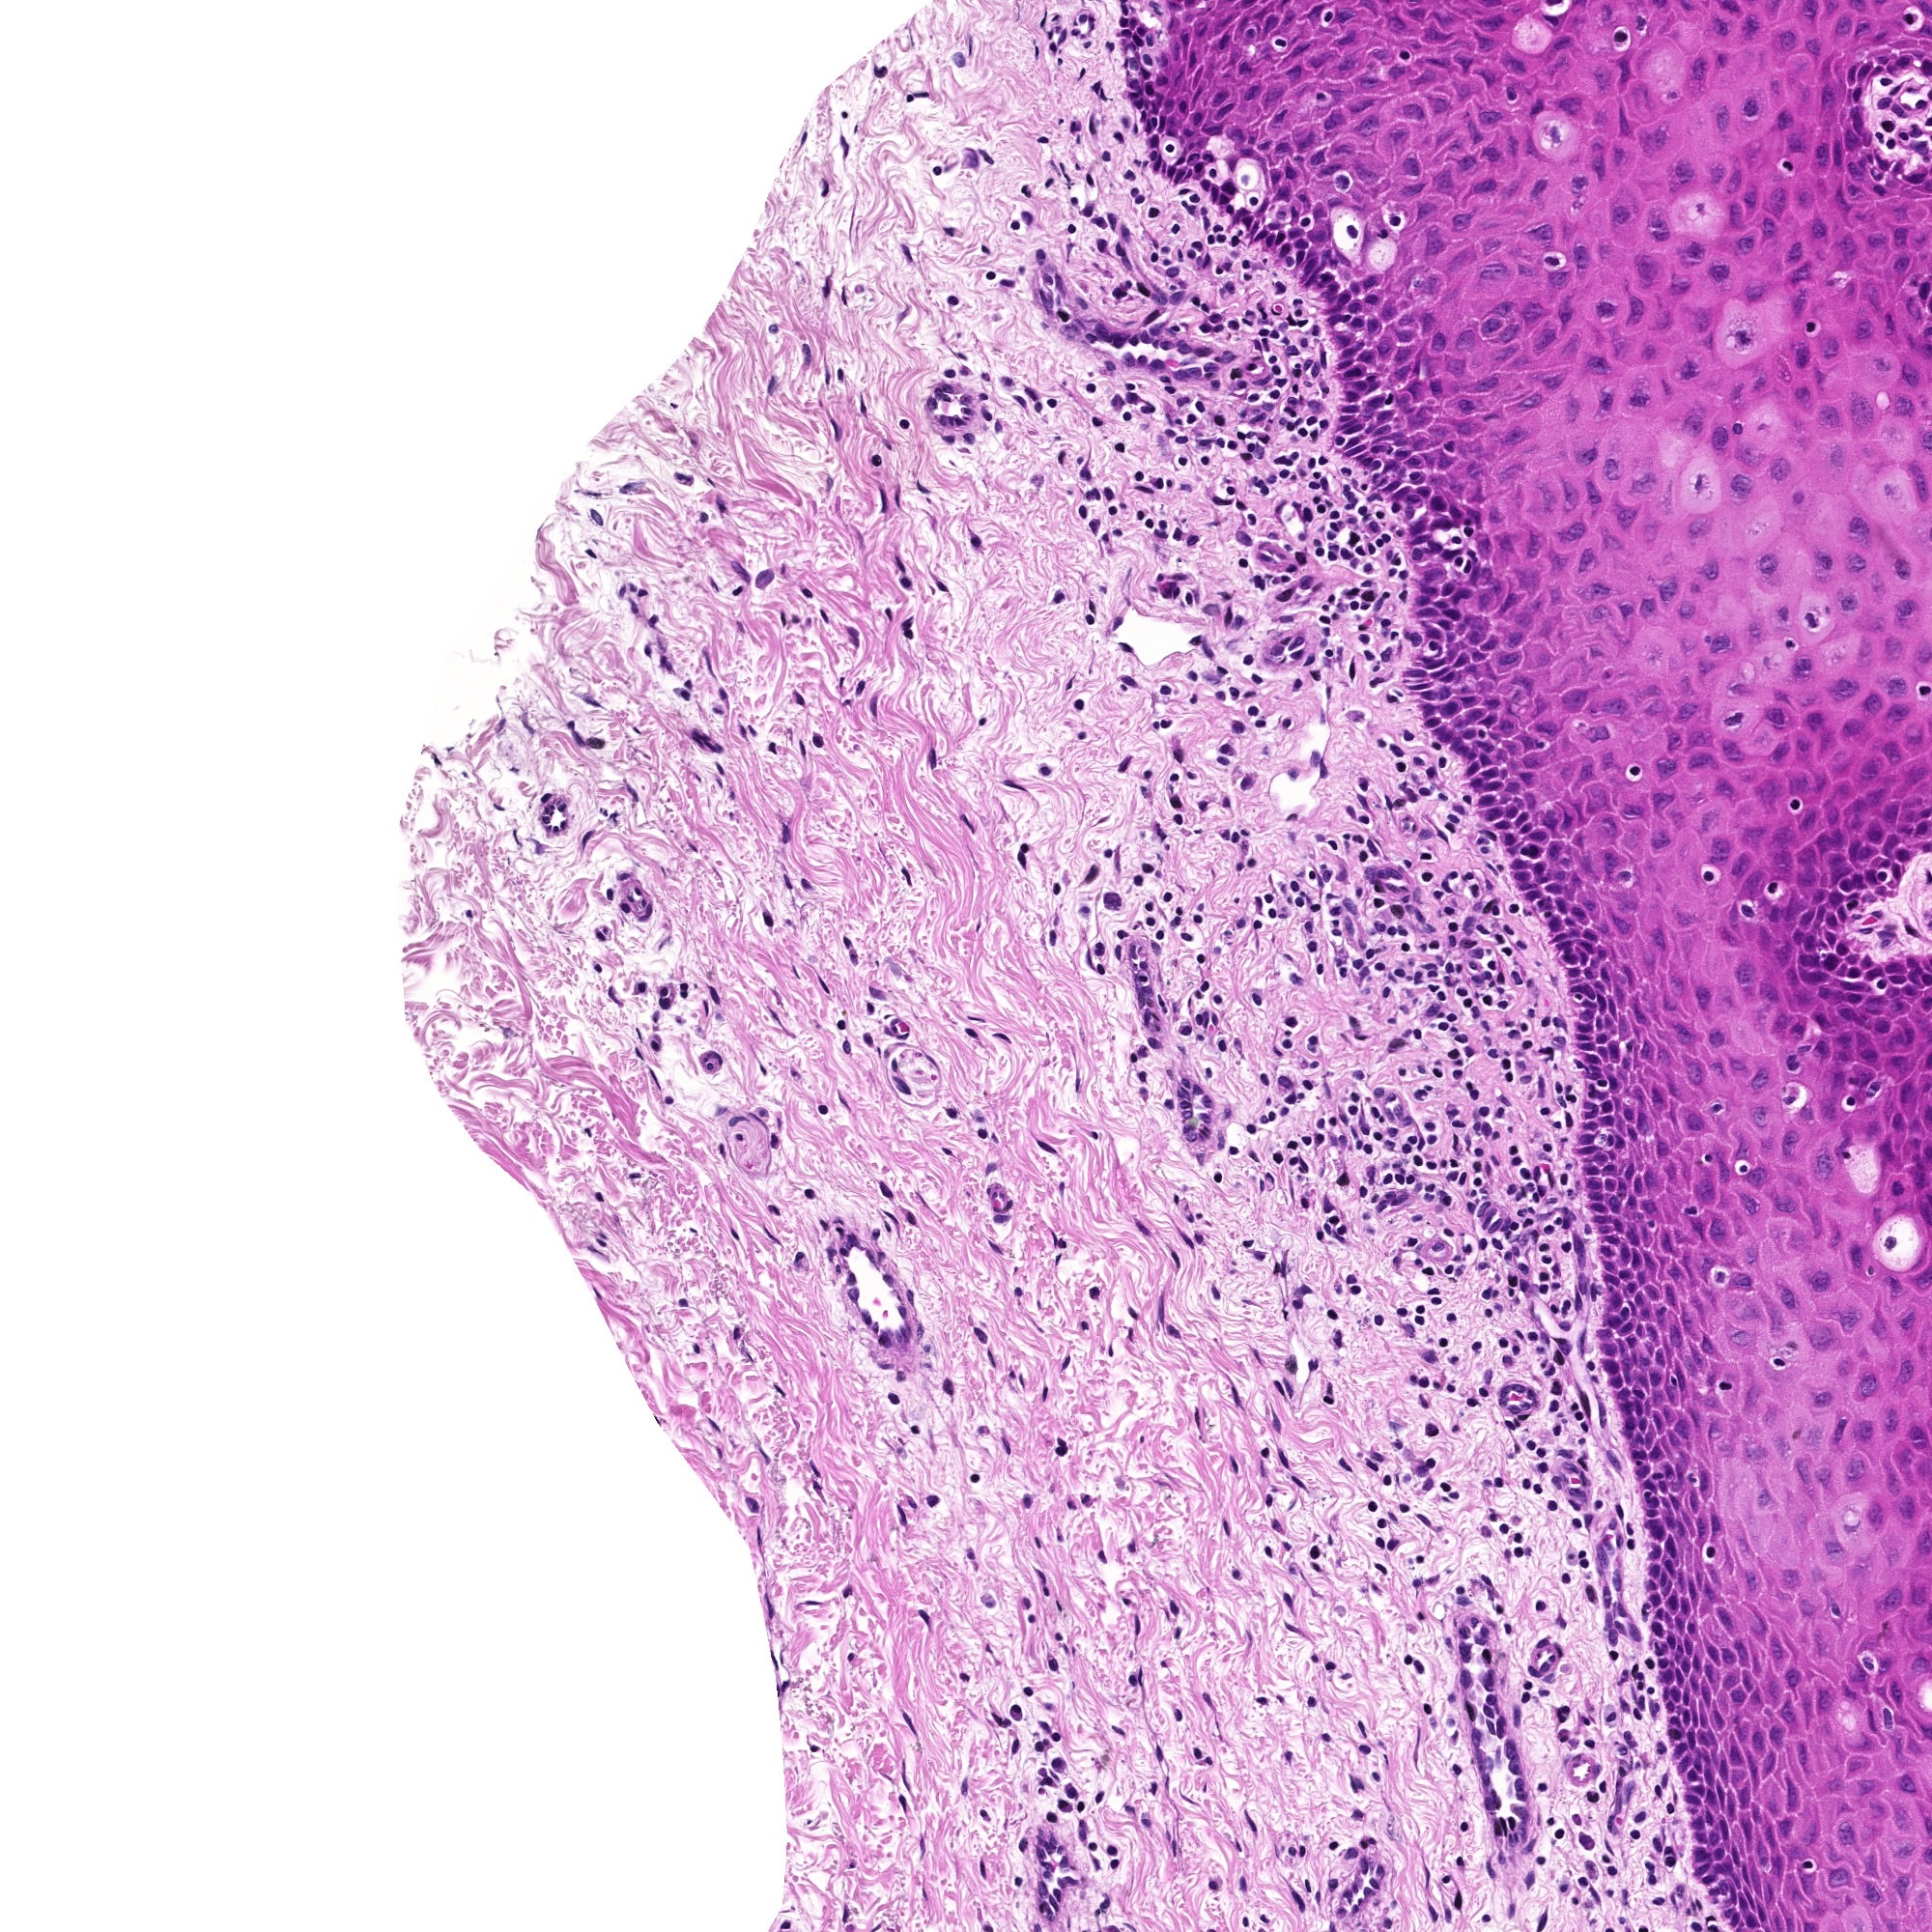epithelial: (1430, 720, 1435, 727), (1353, 448, 1359, 453), (1619, 212, 1622, 219), (1920, 824, 1923, 832), (1463, 161, 1468, 165), (1829, 345, 1833, 350), (1463, 338, 1467, 343), (1585, 455, 1589, 460), (1460, 593, 1465, 596), (1904, 607, 1907, 612), (1888, 810, 1891, 816), (1585, 1138, 1591, 1141), (1668, 1545, 1672, 1550), (1488, 115, 1491, 119), (1481, 186, 1488, 188), (1369, 299, 1373, 303), (1571, 103, 1575, 106), (1405, 334, 1408, 338), (1813, 722, 1817, 725), (1470, 768, 1474, 771), (1576, 911, 1580, 915), (1599, 1001, 1603, 1005), (1702, 993, 1706, 996), (1895, 978, 1902, 980), (1605, 1106, 1608, 1109), (1907, 1322, 1911, 1325), (1668, 1564, 1672, 1568), (1249, 90, 1251, 96), (1138, 37, 1139, 42), (1369, 122, 1371, 127), (1316, 156, 1318, 161), (1461, 218, 1463, 223), (1545, 336, 1546, 341), (1375, 448, 1380, 449), (1527, 402, 1529, 407), (1461, 658, 1463, 663), (1693, 1074, 1695, 1079), (1840, 1428, 1842, 1433), (1790, 1576, 1792, 1582), (1431, 34, 1433, 37), (1440, 62, 1444, 64), (1414, 108, 1415, 111), (1343, 299, 1346, 301), (1433, 241, 1435, 244), (1537, 188, 1539, 191), (1913, 179, 1916, 180), (1428, 589, 1431, 591), (1451, 614, 1454, 616), (1615, 704, 1617, 708), (1824, 561, 1826, 564), (1831, 918, 1833, 922), (1907, 1090, 1909, 1093), (1759, 1175, 1760, 1178), (1598, 1205, 1599, 1208), (1610, 1364, 1612, 1368), (1637, 1407, 1638, 1410), (1672, 1599, 1674, 1603), (1656, 1626, 1658, 1629), (1684, 1665, 1686, 1668), (1736, 1693, 1737, 1697), (1675, 1693, 1677, 1697), (1723, 1828, 1725, 1831), (1698, 1822, 1700, 1826), (1624, 127, 1626, 129), (1230, 209, 1231, 211), (1281, 237, 1283, 239), (1748, 196, 1750, 198), (1900, 265, 1902, 267), (1352, 407, 1353, 409), (1355, 428, 1357, 430), (1576, 531, 1578, 533), (1488, 644, 1490, 646), (1506, 658, 1507, 660), (1486, 720, 1488, 722), (1493, 784, 1495, 786), (1493, 814, 1495, 816), (1518, 863, 1520, 865), (1587, 936, 1589, 938), (1902, 855, 1904, 856), (1822, 1019, 1824, 1021), (1585, 1046, 1587, 1047), (1900, 1185, 1902, 1187), (1606, 1251, 1608, 1253), (1622, 1274, 1624, 1276), (1614, 1320, 1615, 1322), (1789, 1299, 1790, 1300), (1706, 1345, 1707, 1346), (1725, 1619, 1727, 1621), (1895, 1598, 1897, 1599), (1674, 1734, 1675, 1736), (1757, 1739, 1759, 1741), (1691, 1775, 1693, 1776), (1709, 1798, 1711, 1799), (1693, 1799, 1695, 1801), (1707, 1879, 1709, 1881), (1801, 1750, 1803, 1752)
fibroblast and endothelial: (1161, 1307, 1162, 1316), (1226, 614, 1230, 617), (1322, 766, 1325, 770), (1143, 488, 1148, 490), (1118, 619, 1120, 625), (561, 805, 563, 810), (1465, 1679, 1467, 1684), (1164, 345, 1168, 347), (1201, 350, 1203, 354), (1352, 669, 1353, 672), (1307, 660, 1309, 663), (709, 745, 711, 748), (545, 817, 547, 821), (1362, 798, 1364, 801), (1500, 978, 1502, 982), (1154, 1044, 1157, 1046), (901, 1311, 904, 1313), (1578, 1246, 1580, 1249), (1277, 1385, 1279, 1389), (902, 1511, 904, 1514), (1284, 1458, 1286, 1461), (1612, 1635, 1614, 1638), (1532, 1672, 1536, 1674), (1364, 1861, 1366, 1865), (1297, 1897, 1299, 1900), (984, 1867, 985, 1870), (1663, 1780, 1665, 1783), (1042, 21, 1044, 23), (1261, 382, 1263, 384), (959, 421, 961, 423), (941, 586, 943, 587), (1125, 646, 1127, 648), (1297, 642, 1299, 644), (1299, 683, 1300, 685), (720, 770, 722, 771), (1008, 782, 1010, 784), (586, 837, 587, 839), (1488, 885, 1490, 886), (1491, 867, 1493, 869), (1000, 1035, 1001, 1037), (893, 1063, 895, 1065), (715, 993, 717, 994), (734, 1120, 736, 1122), (770, 1235, 771, 1237), (1175, 1254, 1177, 1256), (1304, 1290, 1306, 1292), (1065, 1362, 1067, 1364), (1424, 1518, 1426, 1520), (1631, 1631, 1633, 1633), (1559, 1652, 1560, 1654), (1543, 1923, 1545, 1925), (1346, 1893, 1348, 1895), (1054, 1904, 1056, 1905)
inflammatory: (816, 741, 819, 747), (1430, 1164, 1435, 1168), (1353, 534, 1357, 538), (1430, 1428, 1433, 1431), (1387, 1178, 1391, 1182), (768, 918, 771, 922), (1093, 1288, 1095, 1293), (1210, 1884, 1215, 1886), (1062, 1803, 1063, 1808), (1242, 782, 1247, 784), (1251, 708, 1253, 713), (975, 540, 980, 541), (1150, 209, 1152, 212), (1097, 223, 1100, 225), (1111, 899, 1113, 902), (1343, 1178, 1345, 1182), (1399, 1198, 1401, 1201), (1422, 1384, 1424, 1387), (1591, 1799, 1594, 1801), (1587, 1842, 1589, 1845), (982, 1812, 984, 1815), (1649, 1663, 1651, 1667), (1313, 1552, 1315, 1555), (1419, 1467, 1421, 1470), (1888, 124, 1890, 127), (1417, 552, 1419, 556), (1364, 1148, 1368, 1150), (1150, 317, 1154, 318), (761, 579, 763, 582), (1286, 593, 1288, 596), (950, 372, 952, 373), (1279, 214, 1281, 216), (1090, 386, 1092, 387), (1097, 423, 1099, 425), (640, 985, 642, 987), (1292, 1023, 1293, 1024), (1431, 1008, 1433, 1010), (1235, 1573, 1237, 1575), (1555, 1387, 1557, 1389), (1555, 1269, 1557, 1270), (1629, 1543, 1631, 1545), (1612, 1716, 1614, 1718), (1039, 1748, 1040, 1750), (1164, 724, 1166, 725), (1219, 421, 1221, 423), (626, 908, 628, 909), (1569, 1097, 1571, 1099), (1435, 1072, 1437, 1074), (1523, 1173, 1525, 1175), (1476, 1180, 1477, 1182), (1412, 1139, 1414, 1141), (1378, 1136, 1380, 1138), (1352, 1109, 1353, 1111), (1453, 1054, 1454, 1056)
lymphocyte: (1792, 801, 1798, 807), (1058, 1451, 1065, 1454), (1550, 260, 1555, 264), (1615, 37, 1624, 39), (1334, 513, 1338, 517), (1311, 945, 1315, 948), (1187, 418, 1191, 419), (1111, 510, 1115, 511), (1148, 522, 1150, 525), (1353, 603, 1355, 607), (1431, 644, 1435, 646), (1322, 617, 1325, 619), (1177, 817, 1178, 821), (1138, 878, 1139, 881), (1196, 918, 1200, 920), (1422, 791, 1426, 793), (1433, 943, 1435, 947), (1368, 952, 1371, 954), (1440, 993, 1442, 996), (1633, 768, 1635, 771), (1437, 893, 1440, 895), (1771, 886, 1773, 890), (1743, 1168, 1744, 1171), (1546, 1146, 1550, 1148), (1511, 1150, 1514, 1152), (893, 1398, 895, 1401), (1502, 1343, 1504, 1346), (1131, 1679, 1132, 1683), (1364, 1748, 1368, 1750), (1444, 1877, 1445, 1881), (1559, 1831, 1560, 1835), (1670, 1806, 1672, 1810), (936, 170, 938, 172), (1279, 41, 1281, 42), (1403, 55, 1405, 57), (989, 274, 991, 276), (1154, 257, 1155, 258), (1219, 237, 1221, 239), (1309, 421, 1311, 423), (1200, 405, 1201, 407), (1120, 446, 1122, 448), (1138, 476, 1139, 478), (1230, 488, 1231, 490), (1313, 487, 1315, 488), (1378, 515, 1380, 517), (1394, 510, 1396, 511), (1787, 165, 1789, 166), (1884, 81, 1886, 83), (1902, 134, 1904, 136), (1810, 326, 1812, 327), (1362, 637, 1364, 639), (685, 694, 686, 695), (1146, 867, 1148, 869), (1150, 920, 1152, 922), (1405, 947, 1407, 948), (1399, 973, 1401, 975), (1491, 964, 1493, 966), (1467, 1001, 1468, 1003), (1444, 1026, 1445, 1028), (1543, 1023, 1545, 1024), (1707, 876, 1709, 878), (1881, 874, 1882, 876), (1911, 931, 1913, 932), (1865, 931, 1867, 932), (1601, 1081, 1603, 1083), (1456, 1072, 1458, 1074), (1306, 1139, 1307, 1141), (1276, 1157, 1277, 1159), (1233, 1150, 1235, 1152), (823, 1108, 824, 1109), (1378, 1318, 1380, 1320), (1401, 1309, 1403, 1311), (1532, 1336, 1534, 1338), (1470, 1401, 1472, 1403), (1578, 1414, 1580, 1415), (1583, 1426, 1585, 1428), (1725, 1385, 1727, 1387), (1778, 1361, 1780, 1362), (1582, 1552, 1583, 1553), (1612, 1654, 1614, 1656), (1028, 1691, 1030, 1693), (1051, 1817, 1053, 1819), (1635, 1833, 1637, 1835), (1514, 1226, 1516, 1228), (1332, 1219, 1334, 1221), (1553, 1307, 1555, 1309)
